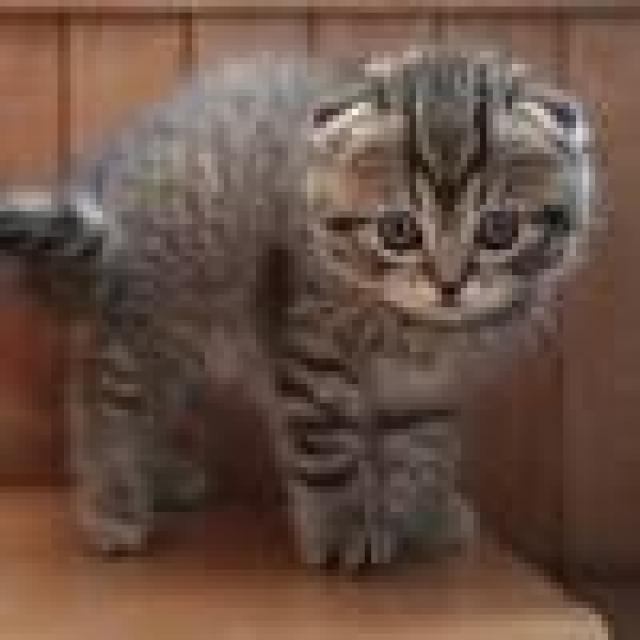cat-face: (244, 37, 640, 420)
